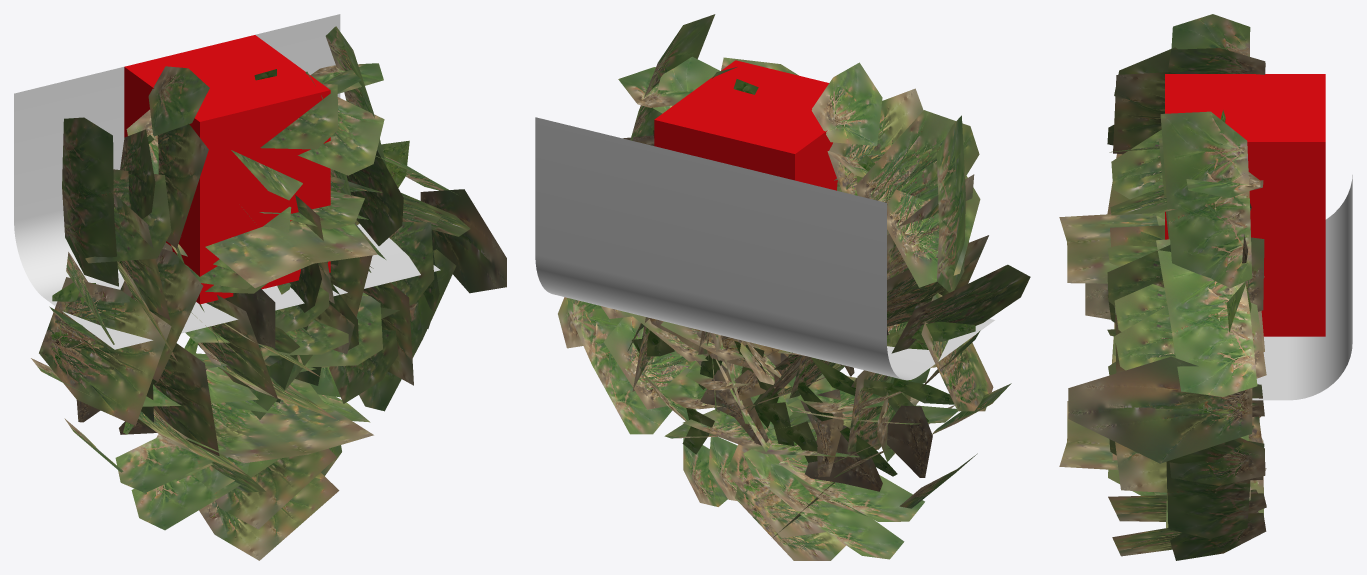
The model's file is editedgrass.fbx.
3 views of the same model, side by side, from view 1: azimuth 30°, elevation 25°; view 2: azimuth 150°, elevation 25°; view 3: azimuth 270°, elevation 25° (orthographic). The views are drawn at different scales.
Visible parts, largest first — view 1: Meadow_Grass_01_Var2_LOD0, CR10 Volume, Background; view 2: Meadow_Grass_01_Var2_LOD0, Background, CR10 Volume; view 3: Meadow_Grass_01_Var2_LOD0, CR10 Volume, Background.
Boxes of the visible parts, box(x1,y1,x2,y2) form: Meadow_Grass_01_Var2_LOD0: box(31, 26, 506, 560); CR10 Volume: box(124, 35, 330, 304); Background: box(14, 14, 440, 349); Meadow_Grass_01_Var2_LOD0: box(558, 14, 1030, 560); Background: box(535, 117, 994, 380); CR10 Volume: box(654, 60, 837, 190); Meadow_Grass_01_Var2_LOD0: box(1059, 14, 1266, 560); CR10 Volume: box(1165, 74, 1325, 336); Background: box(1252, 175, 1352, 400).
Size of what is drawn, in the model's own units: 96.11 by 104 by 54.66.
